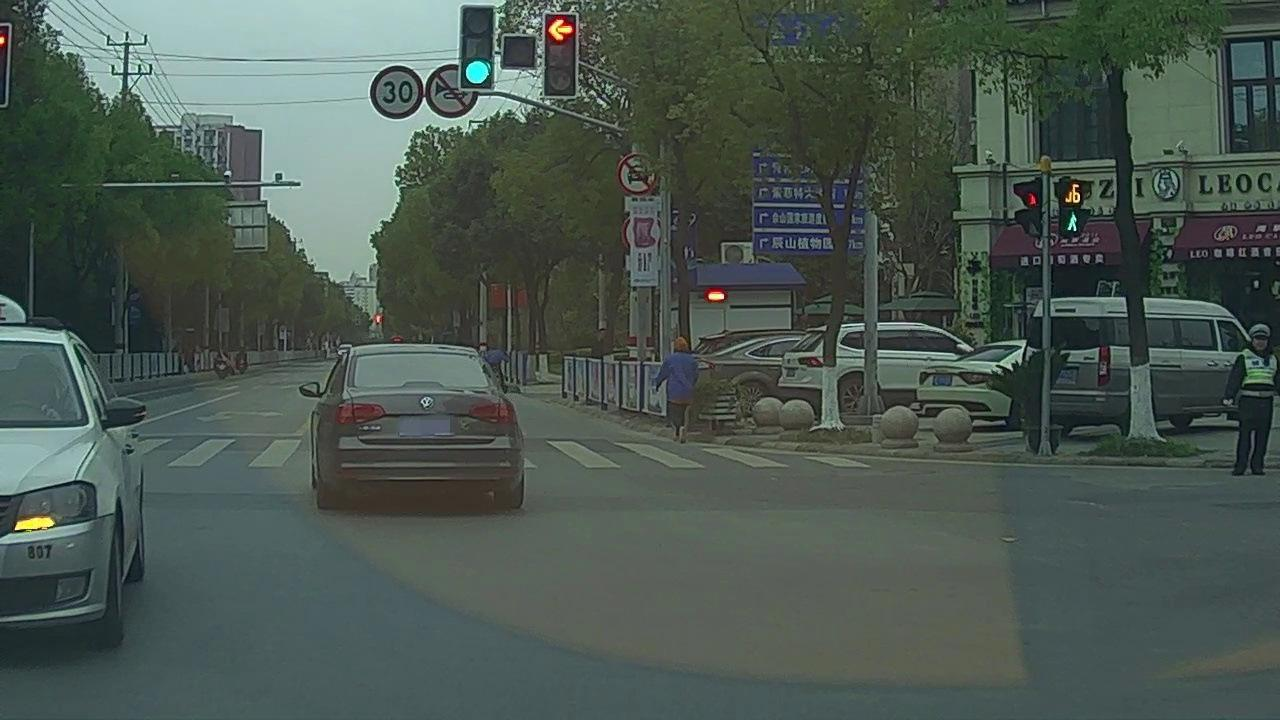traffic_light: (458, 6, 491, 93), (545, 15, 576, 97)
